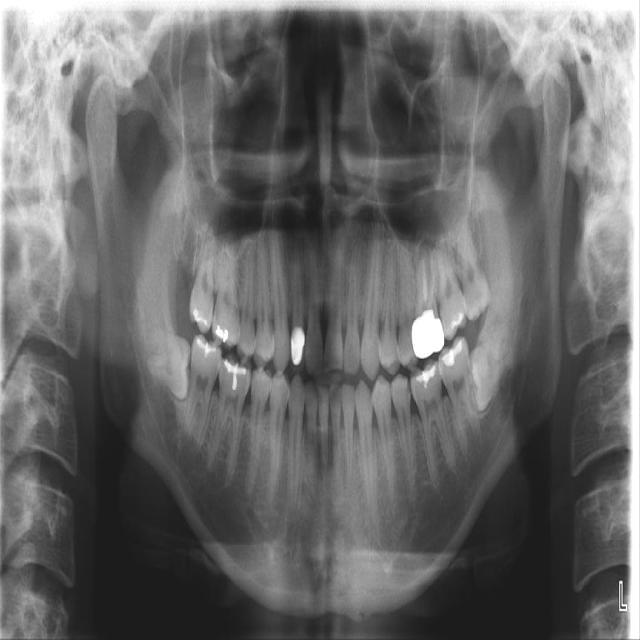Crown: (412, 314, 446, 360), (290, 318, 305, 370)
Filling: (223, 359, 247, 391), (443, 340, 462, 367), (415, 365, 436, 389), (196, 336, 216, 358), (192, 309, 208, 327), (216, 325, 229, 344), (451, 313, 464, 328)
Periapical lesion: (418, 238, 435, 253)
Root Canal Treatment: (422, 255, 429, 305)
impacted tooth: (468, 317, 517, 408), (141, 330, 190, 397)
